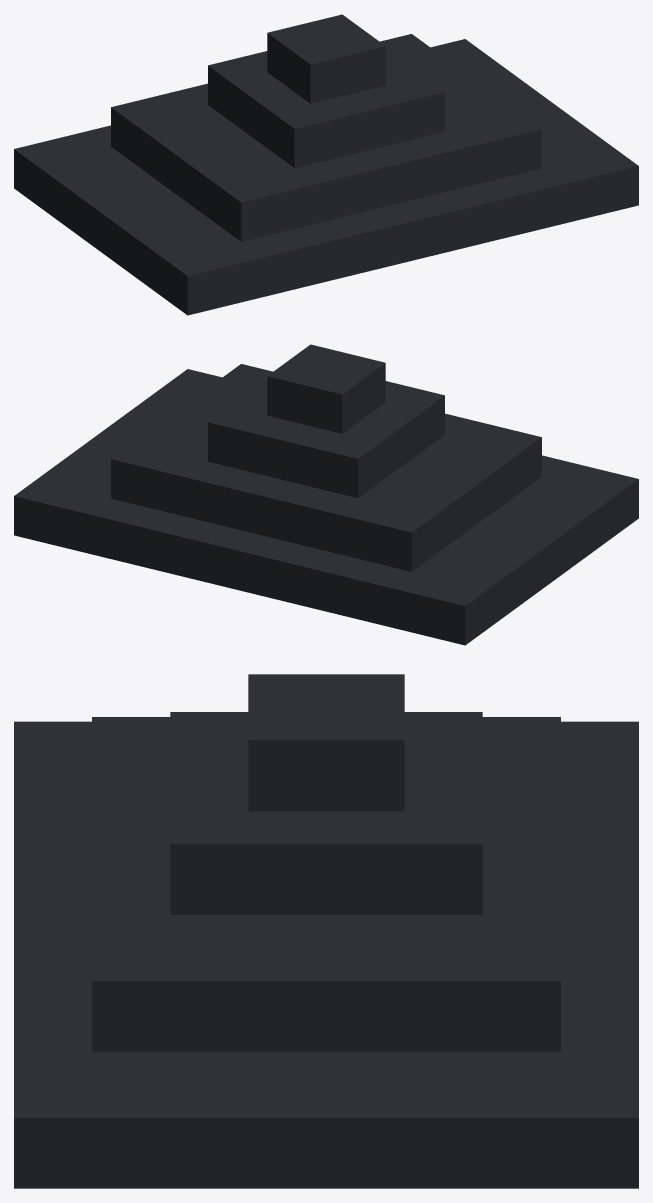
Rendered from light_plafonnier_socle.glb.
The picture shows the model from 3 angles, top to bottom: view 1: azimuth 30°, elevation 25°; view 2: azimuth 150°, elevation 25°; view 3: azimuth 270°, elevation 25°; orthographic projection. The views are drawn at different scales.
Visible parts, largest first — view 1: generated(Clone); view 2: generated(Clone); view 3: generated(Clone).
Boxes of the visible parts, x1,y1,x2,y2 form: generated(Clone): [14, 14, 638, 315]; generated(Clone): [14, 344, 638, 645]; generated(Clone): [14, 674, 638, 1188].
Size of the model in its own units: 12 by 4 by 8.
1 material, 1 textured.
